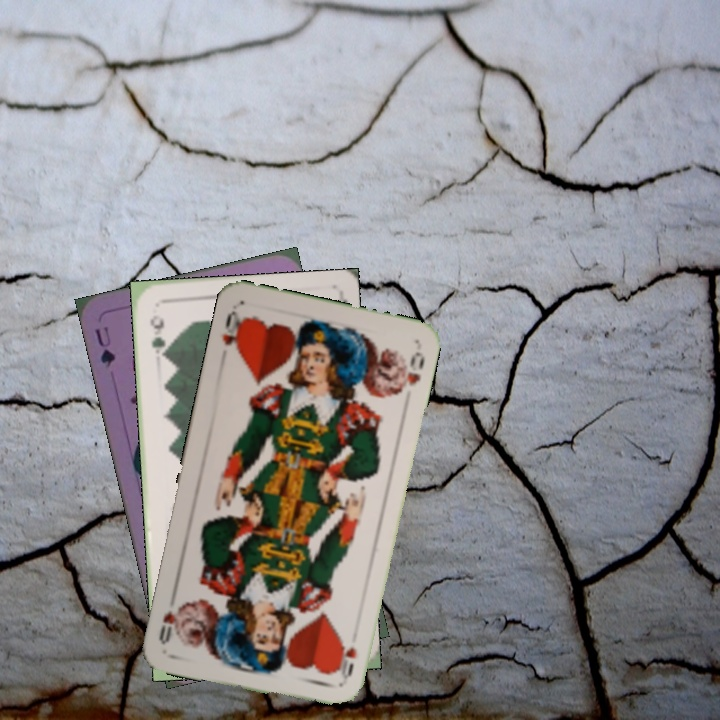G9: (146, 311, 168, 362)
GU: (91, 322, 118, 370)
HO: (217, 307, 248, 357), (332, 636, 359, 686)
